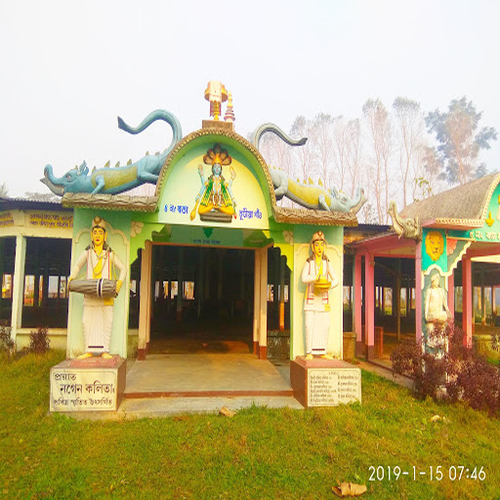Temple: (46, 78, 361, 404)
